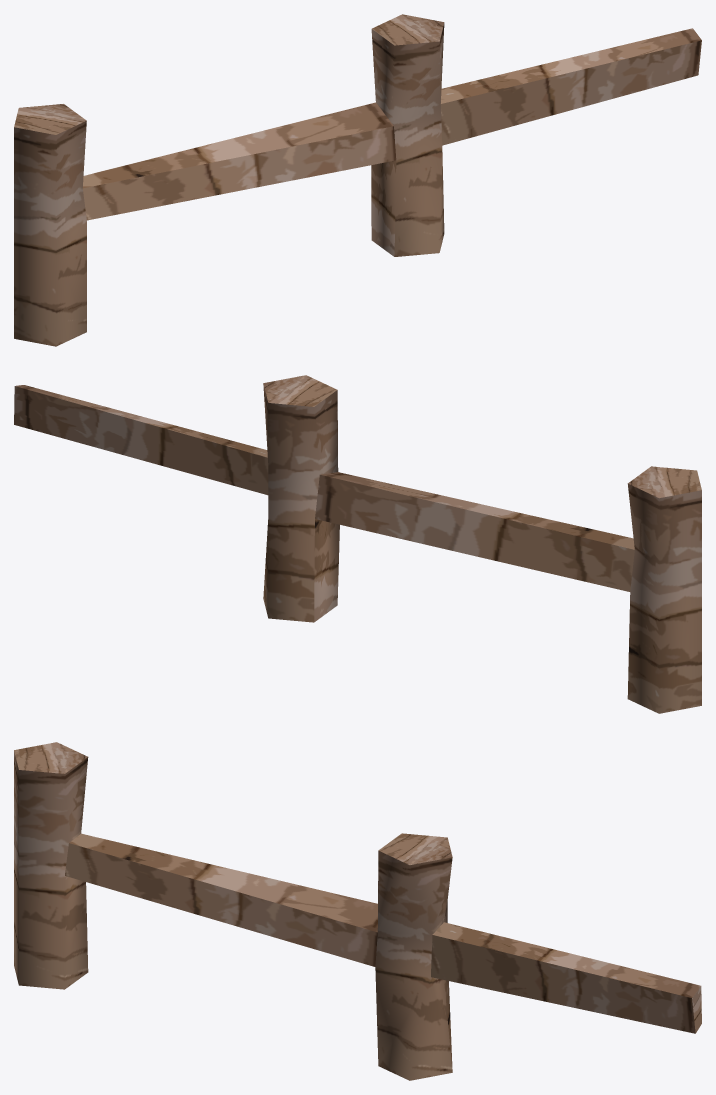
The model's file is Fence01.FBX.
3 renders of one model, top to bottom at view 1: azimuth 30°, elevation 25°; view 2: azimuth 150°, elevation 25°; view 3: azimuth 330°, elevation 25°, orthographic.
Visible parts, largest first — view 1: Cylinder001; view 2: Cylinder001; view 3: Cylinder001.
Part boxes in pixels (x1,y1,x2,y2): Cylinder001: (14,14,701,346); Cylinder001: (14,375,701,713); Cylinder001: (14,742,701,1080).
Bounding box in the file's own units: 273 × 81.67 × 26.06.
